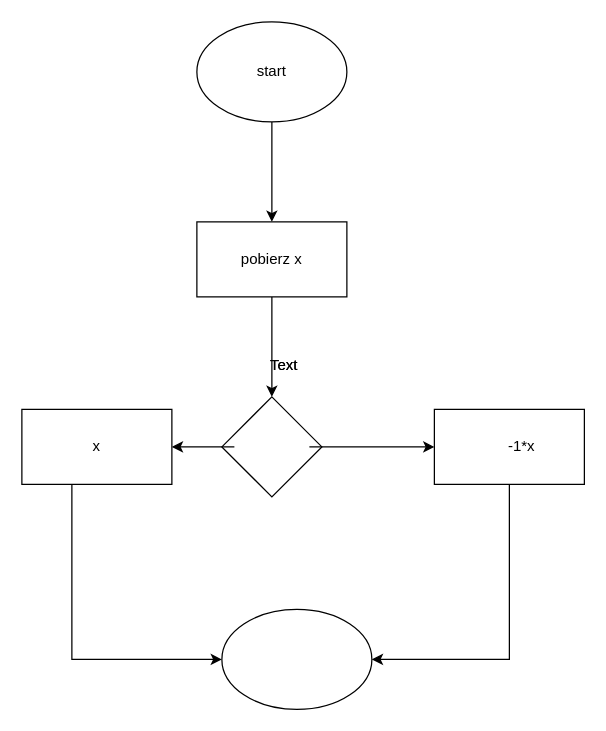
Some shapes in this 606 by 731 pixel diagram are drawn without their labels. Each missing label, with the centre of its shape:
"stop" belongs at point 296,658.
"x<0" belongs at point 271,446.
